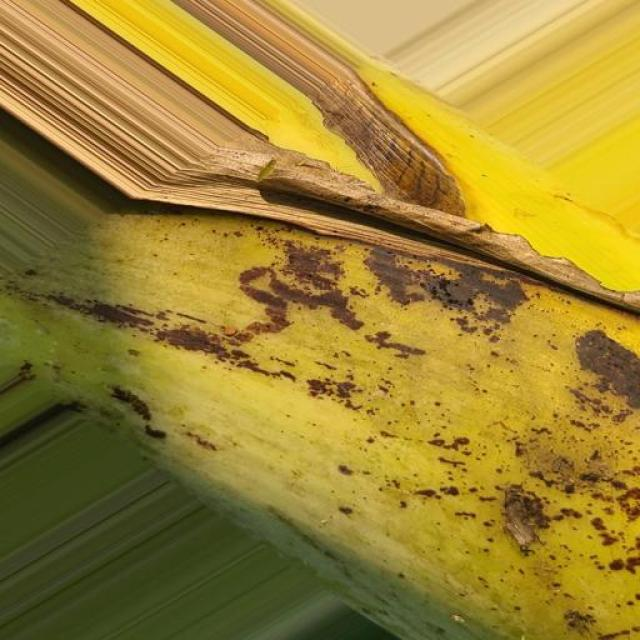Anthracnose: (1, 148, 640, 640)
